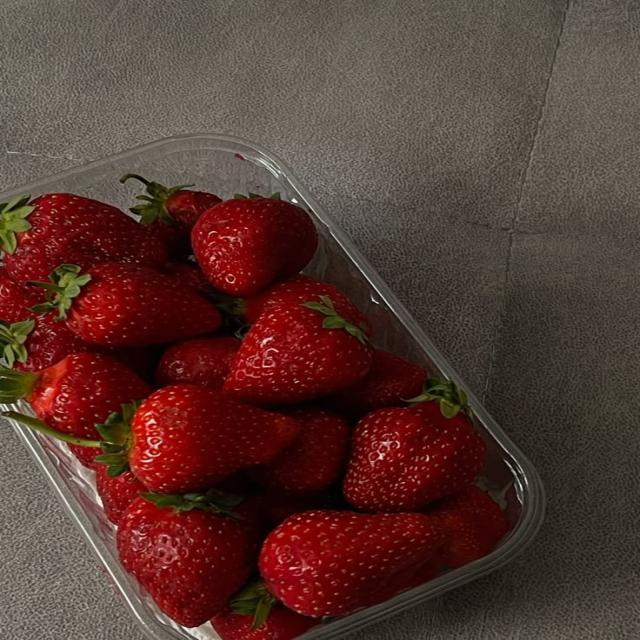strawberry: (98, 385, 299, 493), (260, 511, 442, 617), (343, 379, 486, 512), (117, 494, 254, 627), (224, 297, 373, 405), (35, 263, 221, 346), (0, 194, 166, 284), (0, 353, 152, 439), (192, 198, 317, 295), (0, 312, 159, 380), (250, 407, 351, 495), (233, 275, 371, 335), (120, 174, 221, 255), (328, 350, 427, 420), (428, 486, 508, 567), (0, 314, 94, 371), (155, 336, 240, 388), (211, 603, 319, 639), (243, 492, 320, 535), (96, 464, 147, 525), (92, 346, 163, 382), (0, 267, 43, 323), (162, 261, 214, 295), (68, 443, 102, 471)
